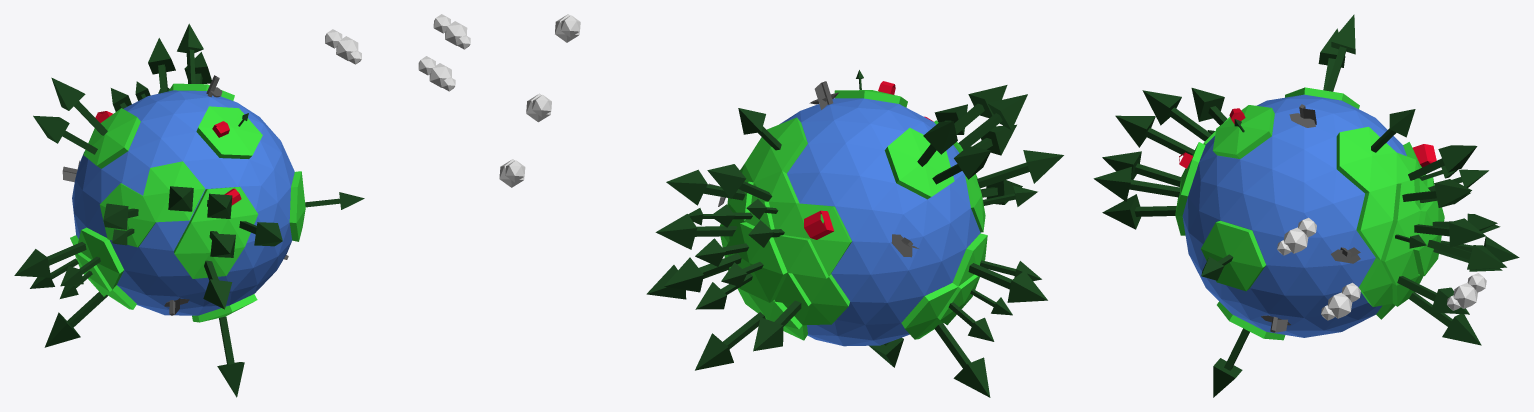
Rendered from island.glb.
The picture shows the model from 3 angles, left to right: view 1: azimuth 30°, elevation 25°; view 2: azimuth 150°, elevation 25°; view 3: azimuth 270°, elevation 25°; orthographic projection. The views are drawn at different scales.
Parts seen in each view (by area): view 1: Icosphere.001, Icosphere, Plane.025, Plane.028, Plane.030, Plane, Plane.003, Plane.033, Plane.011, Plane.032, Icosphere.002, Icosphere.004 (+10 smaller); view 2: Icosphere.001, Icosphere, Plane.028, Plane.016, Plane.022, Plane.025, Plane.020, Plane.012, Plane.005, Plane.013, Plane.015, Plane.011 (+18 smaller); view 3: Icosphere.001, Icosphere, Plane.032, Plane.020, Plane.021, Plane.033, Plane.016, Plane.019, Plane.012, Plane.005, Plane.011, Plane.013 (+15 smaller).
Boxes of the visible parts, x1,y1,x2,y2 form: Icosphere.001: [72, 90, 294, 315]; Icosphere: [70, 83, 305, 322]; Plane.025: [14, 242, 86, 277]; Plane.028: [44, 292, 107, 347]; Plane.030: [217, 316, 244, 397]; Plane: [51, 77, 107, 135]; Plane.003: [33, 115, 97, 154]; Plane.033: [203, 260, 232, 309]; Plane.011: [148, 38, 175, 92]; Plane.032: [239, 221, 282, 246]; Icosphere.002: [418, 56, 455, 91]; Icosphere.004: [325, 29, 361, 64]; Icosphere.001: [779, 98, 980, 346]; Icosphere: [720, 90, 987, 340]; Plane.028: [934, 323, 990, 397]; Plane.016: [695, 312, 765, 370]; Plane.022: [977, 150, 1063, 188]; Plane.025: [968, 263, 1047, 302]; Plane.020: [958, 94, 1027, 149]; Plane.012: [655, 214, 737, 249]; Plane.005: [664, 253, 741, 292]; Plane.013: [666, 169, 745, 205]; Plane.015: [753, 300, 801, 351]; Plane.011: [707, 164, 772, 201]; Icosphere.001: [1182, 94, 1406, 337]; Icosphere: [1175, 87, 1444, 340]; Plane.032: [1093, 167, 1180, 201]; Plane.020: [1142, 90, 1211, 141]; Plane.021: [1115, 115, 1194, 155]; Plane.033: [1102, 194, 1176, 229]; Plane.016: [1409, 292, 1481, 345]; Plane.019: [1102, 151, 1181, 186]; Plane.012: [1414, 218, 1485, 247]; Plane.005: [1427, 240, 1506, 269]; Plane.011: [1408, 145, 1477, 180]; Plane.013: [1402, 179, 1471, 207].
Bounding box in the file's own units: 4.71 × 2.98 × 3.58.
